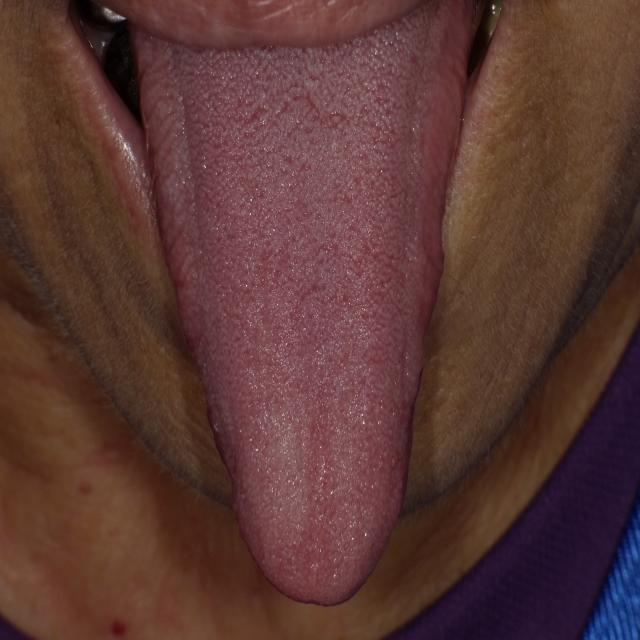baitaishe: (133, 4, 476, 604)
shoushe: (134, 4, 477, 604)
